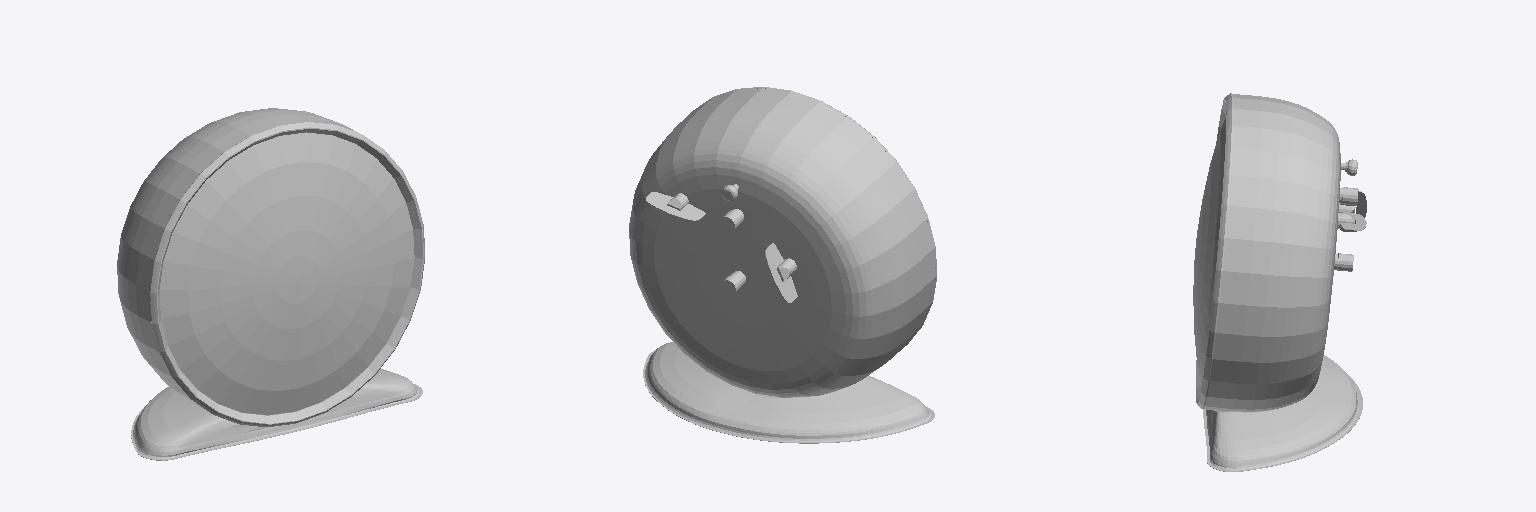
File: westclox.obj
3 views of the same model, side by side, from view 1: azimuth 30°, elevation 25°; view 2: azimuth 150°, elevation 25°; view 3: azimuth 270°, elevation 25° (orthographic).
Parts seen in each view (by area): view 1: Plane.001, Plane.000_Plane.002; view 2: Plane.000_Plane.002, Cube_Cube.001, Plane.001; view 3: Plane.000_Plane.002, Plane.001, Cube_Cube.001.
Part boxes in pixels (bbox=[...]): Plane.001: bbox=[150, 122, 424, 426]; Plane.000_Plane.002: bbox=[117, 108, 422, 460]; Plane.000_Plane.002: bbox=[629, 88, 935, 443]; Cube_Cube.001: bbox=[646, 184, 797, 302]; Plane.001: bbox=[691, 87, 936, 345]; Plane.000_Plane.002: bbox=[1203, 94, 1362, 471]; Plane.001: bbox=[1193, 93, 1233, 408]; Cube_Cube.001: bbox=[1334, 159, 1366, 271].
Bounding box in the file's own units: 13.93 × 14.06 × 7.48.